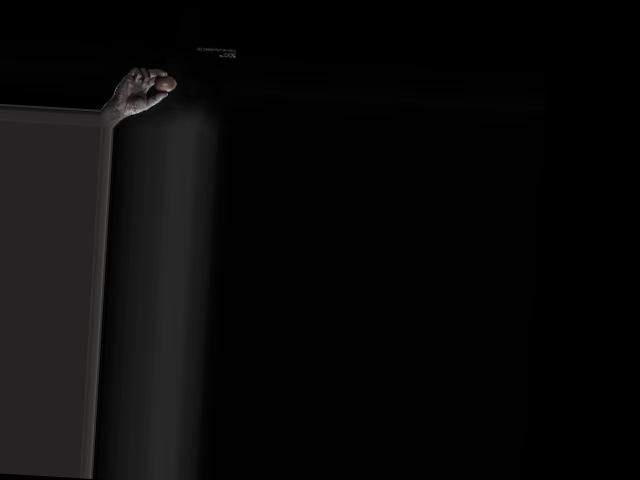egg: (152, 75, 176, 92)
